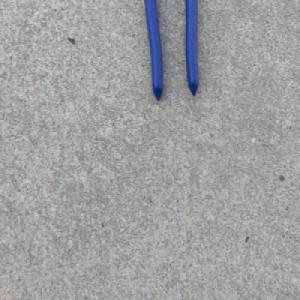Pliers: (144, 0, 202, 103)
